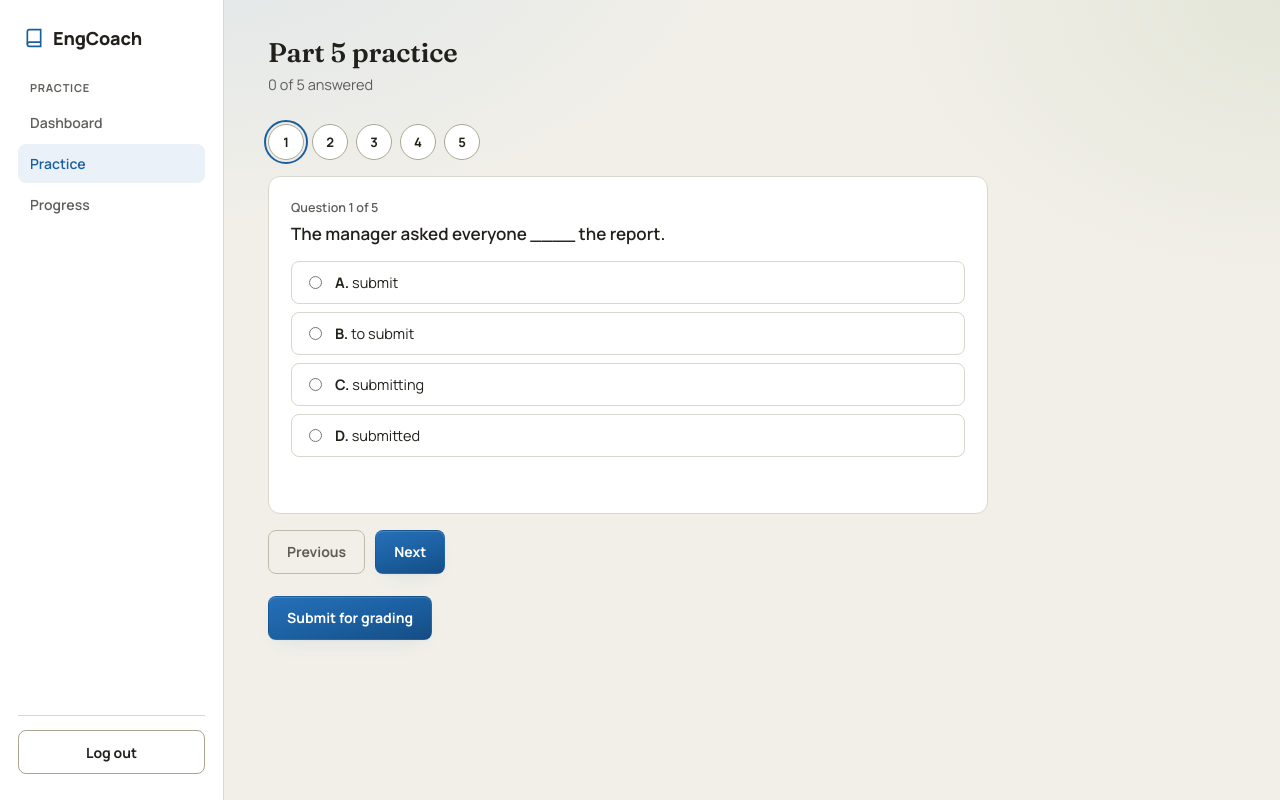
Test: Test screen (S7b) › Previous / Next move between questions and are disabled at the ends
This screenshot has width=1280, height=800.
Check: the text "Question 1 of 5" is shown, box [291,199,378,216]
Check: the button "Previous" is disabled, box [268,530,365,574]
Click the button "Next".
click(410, 552)  # box [375,530,445,574]
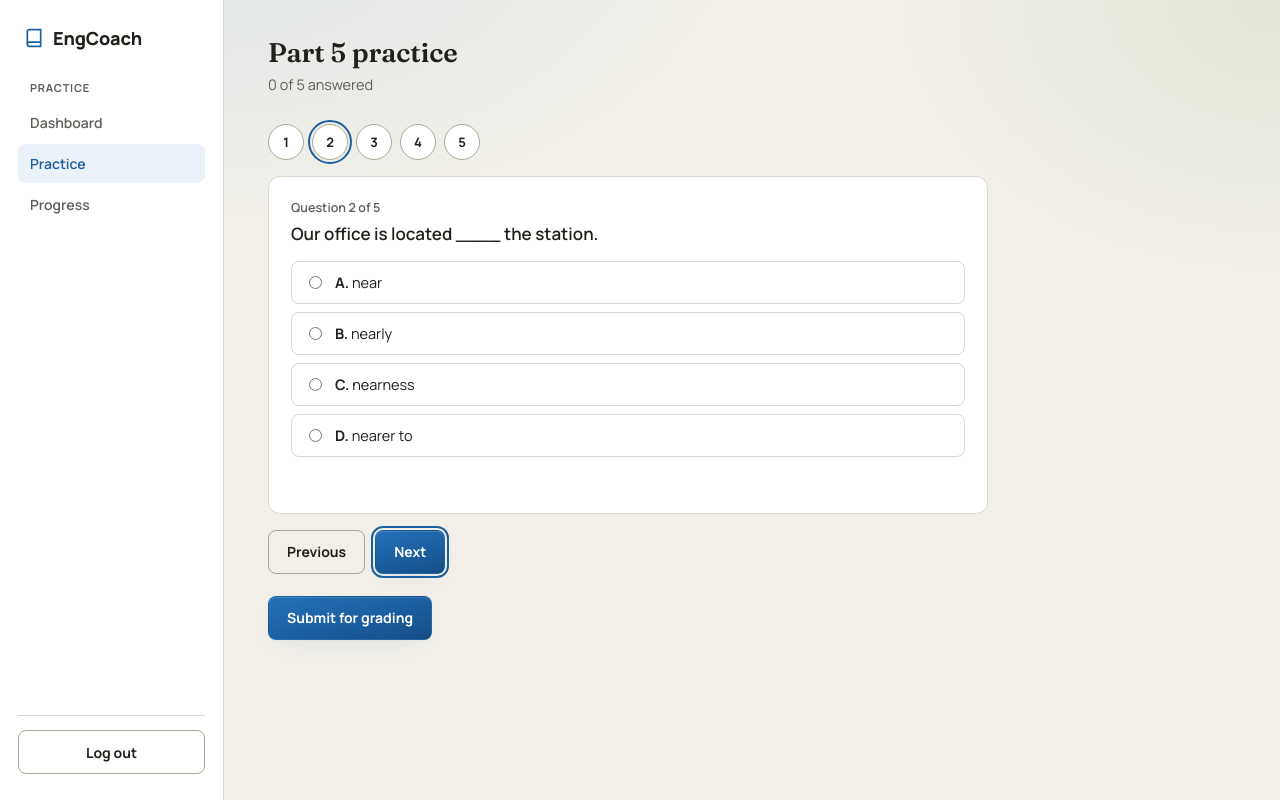
Check: the text "Question 2 of 5" is shown, box [291,199,380,216]
Click the button "Next".
click(410, 552)  # box [375,530,445,574]
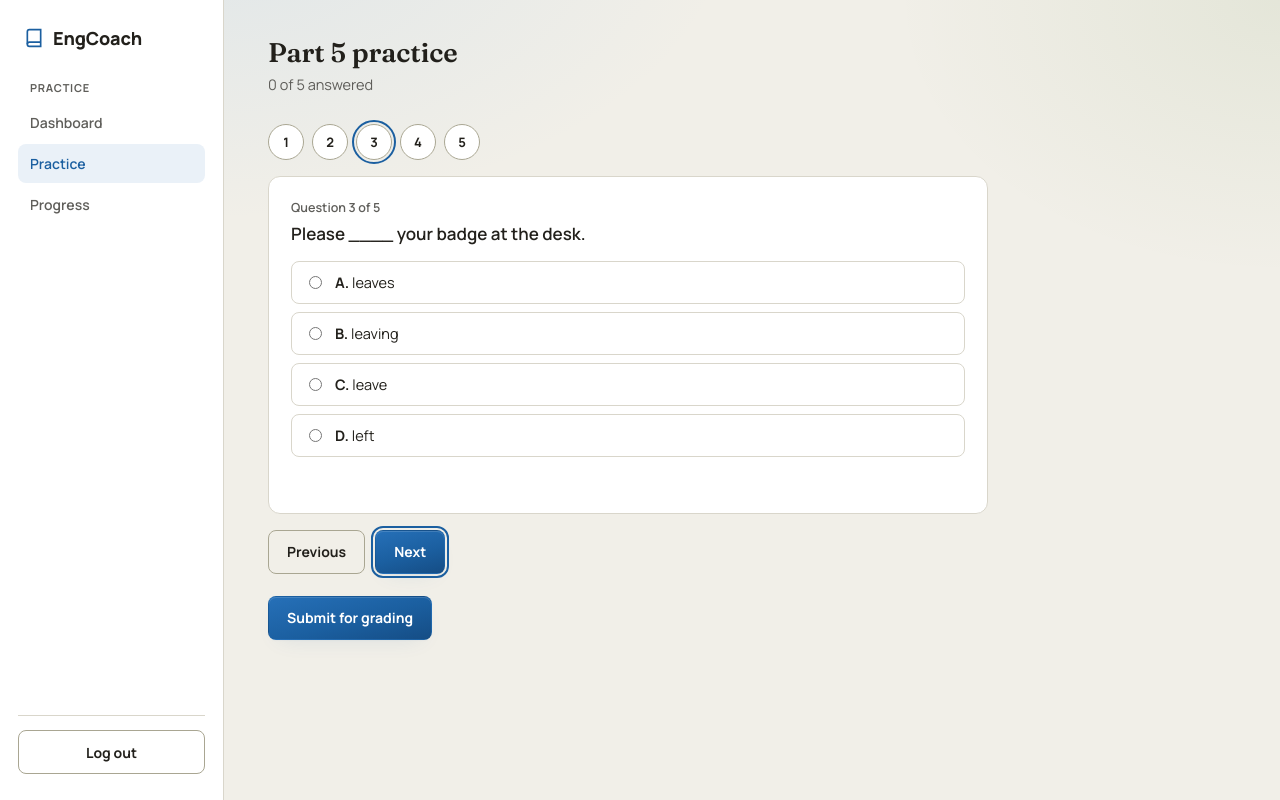
Click the button "Next".
click(410, 552)  # box [375,530,445,574]
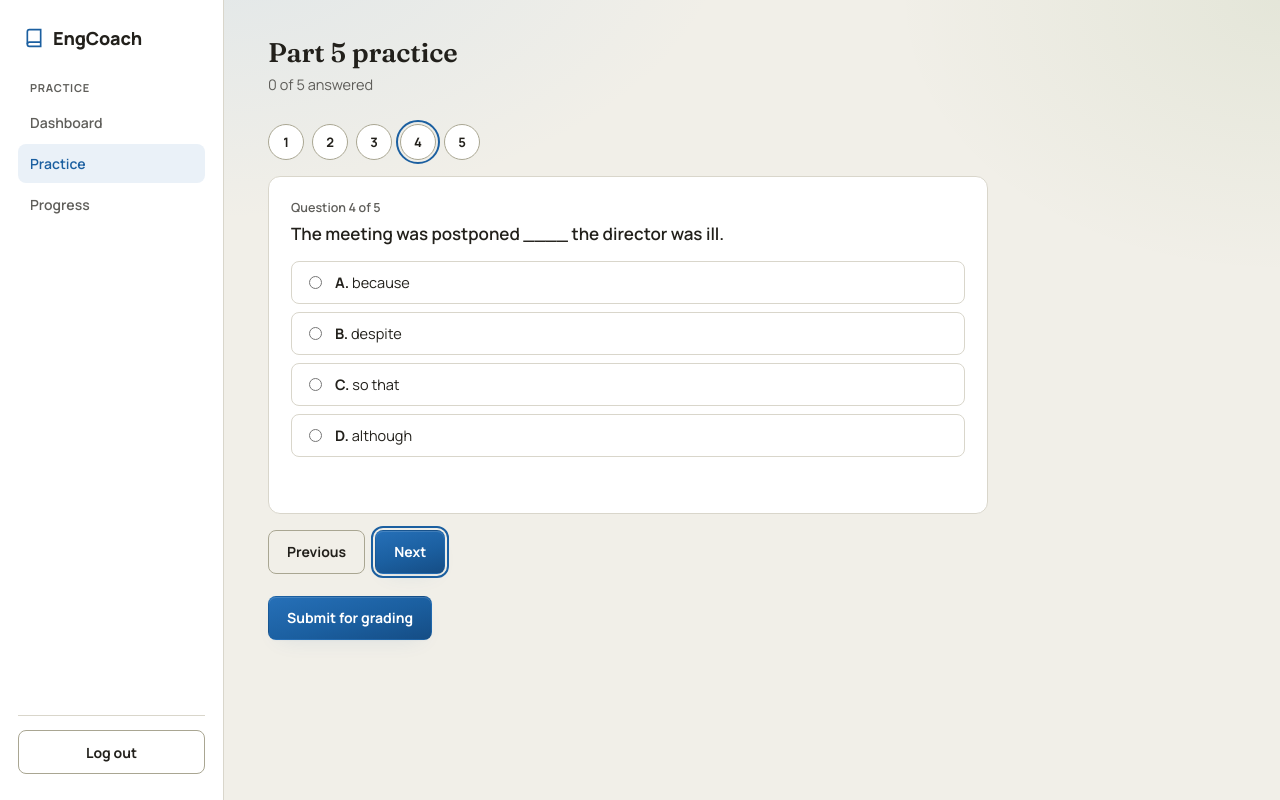
Click the button "Next".
click(410, 552)  # box [375,530,445,574]
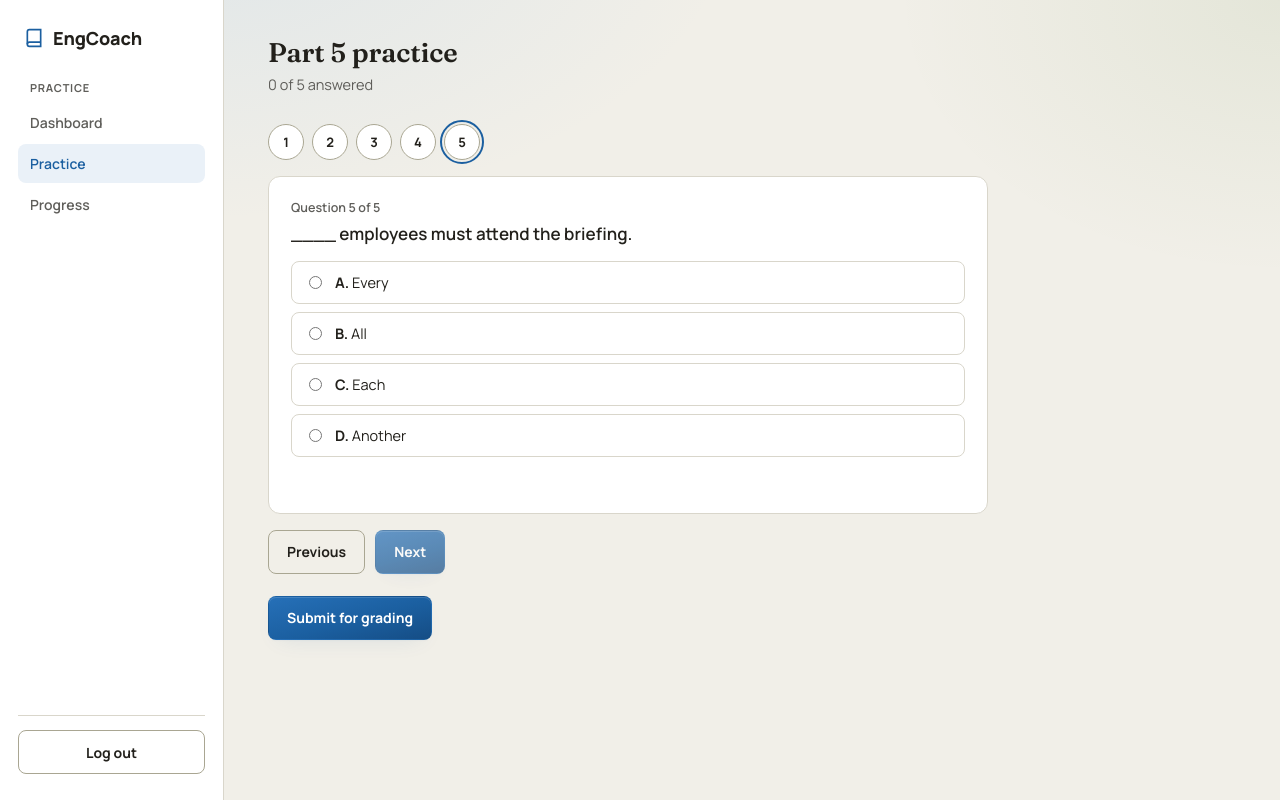
Check: the text "Question 5 of 5" is shown, box [291,199,380,216]
Check: the button "Next" is disabled, box [375,530,445,574]
